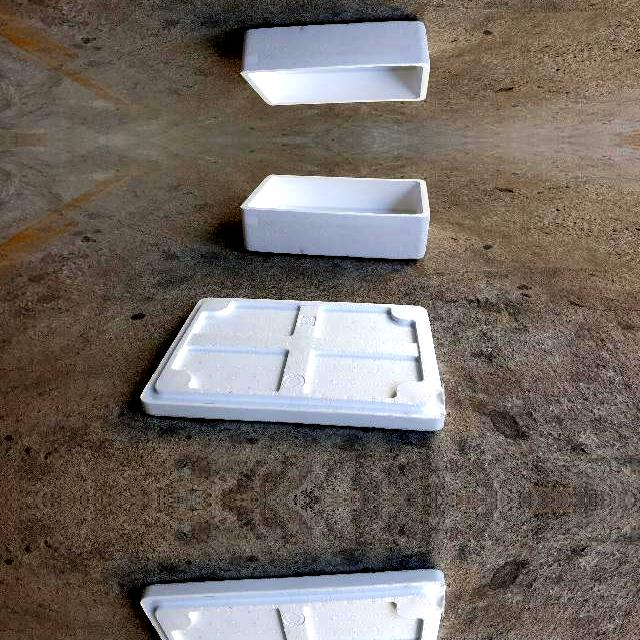Styrofoam: (139, 294, 447, 432), (140, 297, 446, 430), (139, 568, 447, 640), (140, 570, 446, 640), (239, 172, 431, 260), (239, 20, 431, 108), (241, 174, 431, 258), (241, 22, 431, 106)
